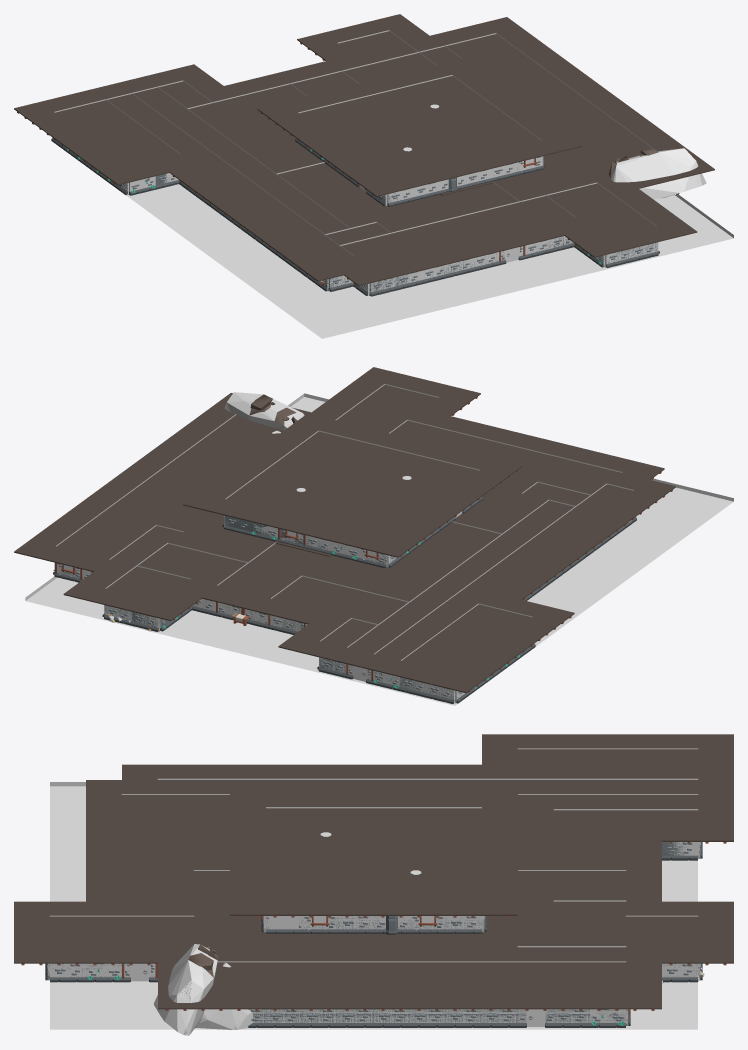
The model's file is dungeon.glb.
The picture shows the model from 3 angles, top to bottom: view 1: azimuth 30°, elevation 25°; view 2: azimuth 150°, elevation 25°; view 3: azimuth 270°, elevation 25°; orthographic projection. The views are drawn at different scales.
Visible parts, largest first — view 1: col_floor, colhull_rubble_rubble_large_001.001, col_wall_001_b0, col_wall_008_b0; view 2: col_floor, colhull_rubble_rubble_large_001.001, col_wall_023_b0, col_wall_015_b0, col_wall_021_b0, rubble_rubble_large_001.001; view 3: col_floor, col_wall_049_b0, colhull_rubble_rubble_large_001.001, col_wall_042_b0, col_wall_044_b0, col_ceiling_002, colhull_rubble_rubble_large_002, col_ceiling_005, ceiling_06_18, ceiling_06_19, ceiling_hall_13_06, ceiling_hall_13_07 (+270 smaller).
Part boxes in pixels (x1,y1,x2,y2): col_floor: [126, 184, 733, 338]; colhull_rubble_rubble_large_001.001: [611, 148, 706, 199]; col_wall_001_b0: [369, 236, 573, 295]; col_wall_008_b0: [387, 156, 542, 205]; col_floor: [25, 393, 733, 705]; colhull_rubble_rubble_large_001.001: [224, 392, 304, 430]; col_wall_023_b0: [319, 657, 454, 702]; col_wall_015_b0: [225, 516, 386, 566]; col_wall_021_b0: [192, 598, 307, 631]; rubble_rubble_large_001.001: [249, 394, 297, 425]; col_floor: [50, 782, 697, 1029]; col_wall_049_b0: [250, 1009, 625, 1026]; colhull_rubble_rubble_large_001.001: [154, 944, 217, 1035]; col_wall_042_b0: [266, 916, 481, 929]; col_wall_044_b0: [50, 963, 155, 981]; col_ceiling_002: [157, 778, 698, 779]; colhull_rubble_rubble_large_002: [196, 1009, 252, 1029]; col_ceiling_005: [217, 961, 626, 962]; ceiling_06_18: [662, 825, 697, 843]; ceiling_06_19: [698, 825, 733, 843]; ceiling_hall_13_06: [230, 899, 265, 917]; ceiling_hall_13_07: [266, 899, 301, 917].
Size of the model in its own units: 72.12 by 9.51 by 80.
Materials: 1 (1 with a texture image).
